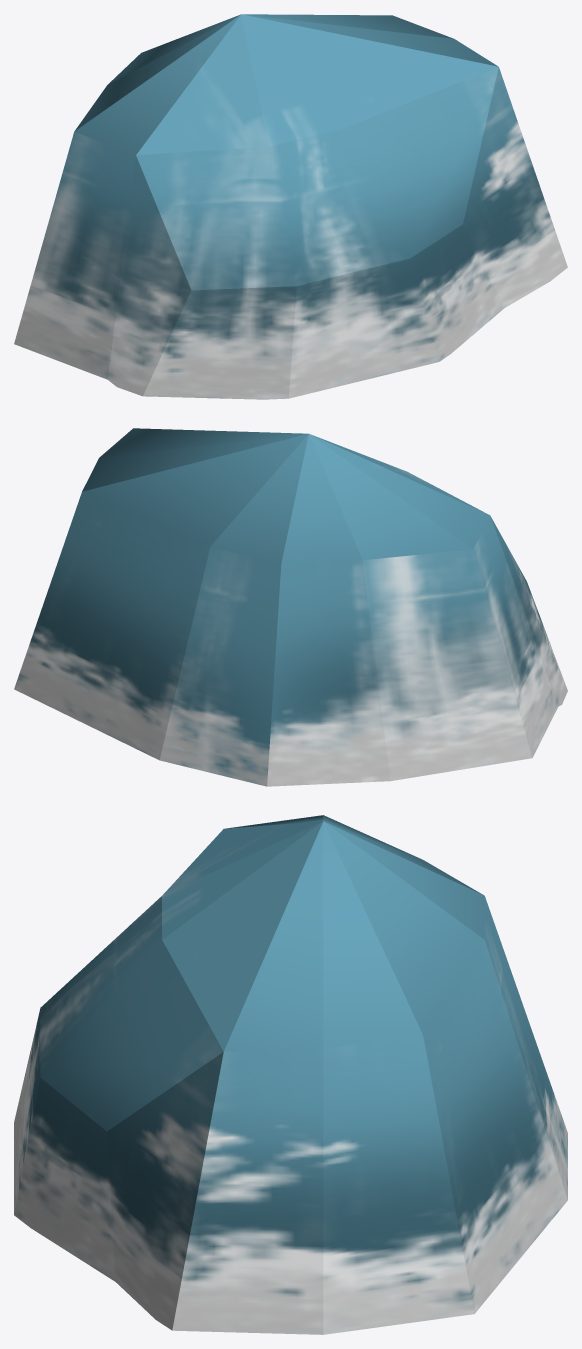
The model's file is ms_iceShape01.fbx.
The picture shows the model from 3 angles, top to bottom: view 1: azimuth 30°, elevation 25°; view 2: azimuth 150°, elevation 25°; view 3: azimuth 270°, elevation 25°; orthographic projection. The views are drawn at different scales.
Parts seen in each view (by area): view 1: polySurface5; view 2: polySurface5; view 3: polySurface5.
Part boxes in pixels (bbox=[...]): polySurface5: bbox=[14, 14, 567, 399]; polySurface5: bbox=[14, 428, 567, 786]; polySurface5: bbox=[14, 815, 567, 1334].
Size of the model in its own units: 261 by 138 by 198.
